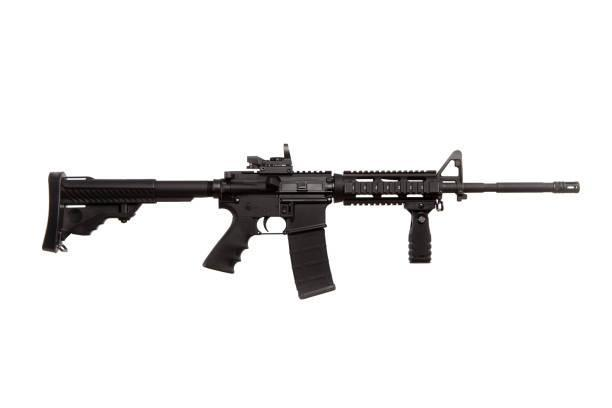larga: (40, 144, 580, 300)
